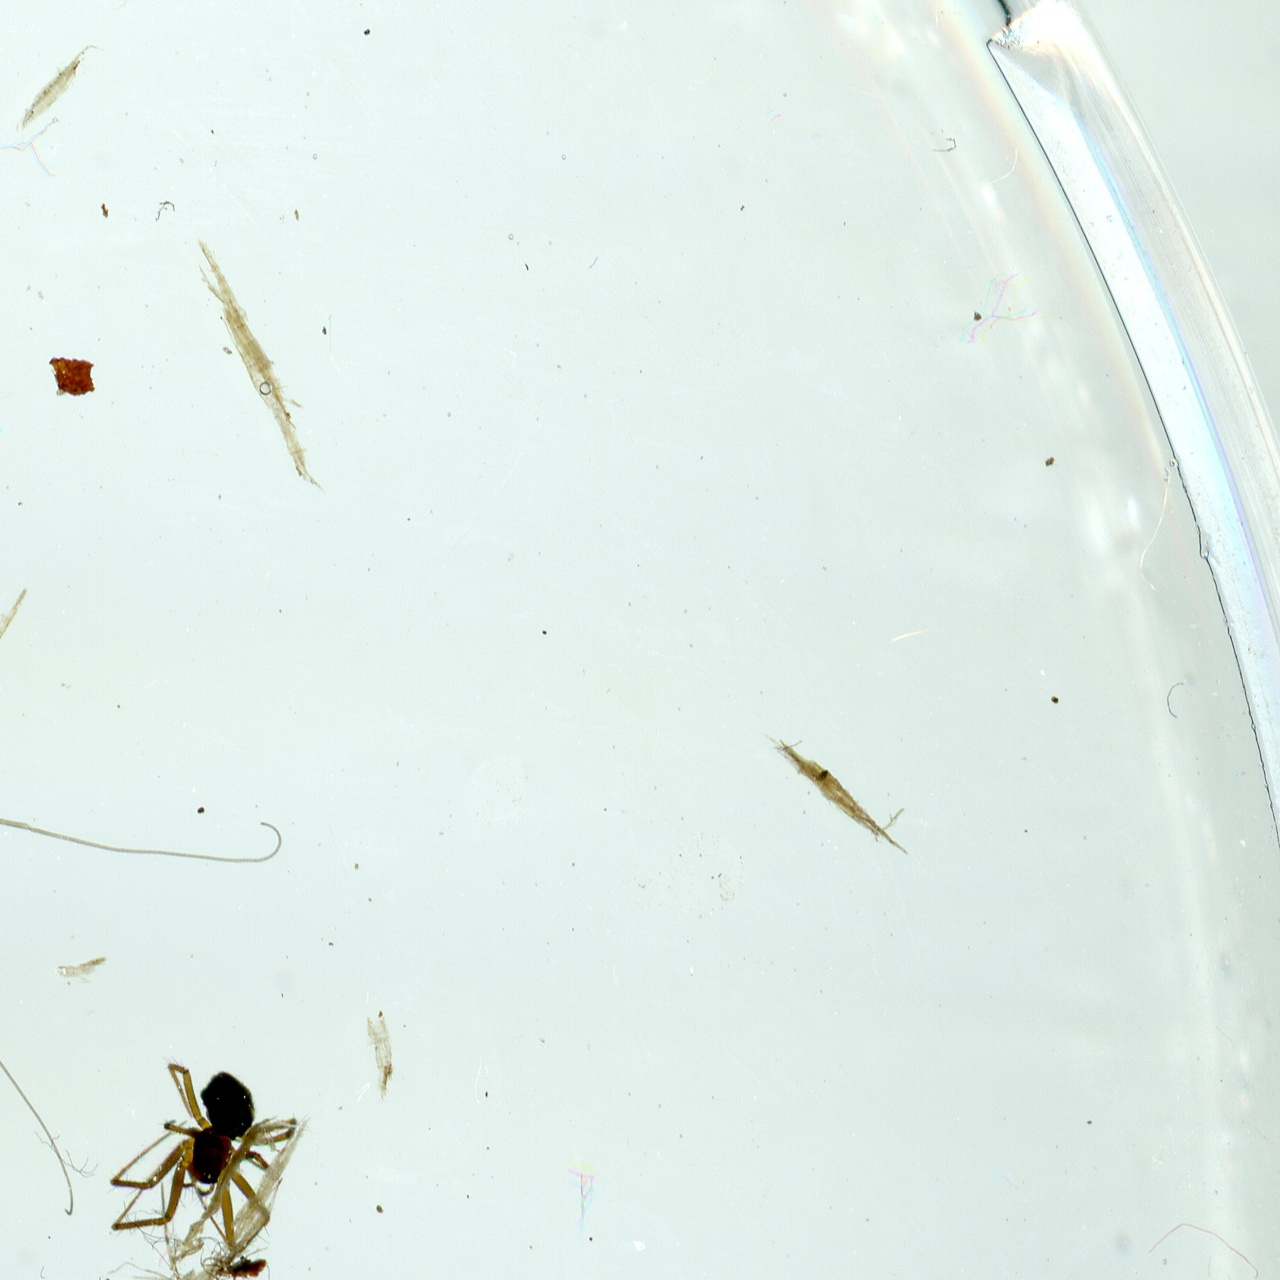arthropod: (0, 533, 315, 1228), (91, 1041, 312, 1280)
